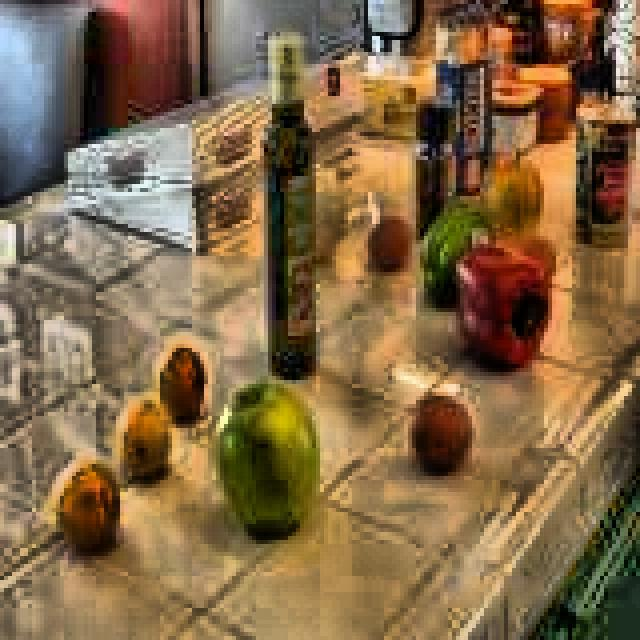bell_pepper: (456, 236, 542, 364), (420, 192, 490, 288)
egg: (408, 376, 480, 476), (364, 208, 414, 276), (520, 232, 562, 288)
onion: (284, 160, 344, 262)
